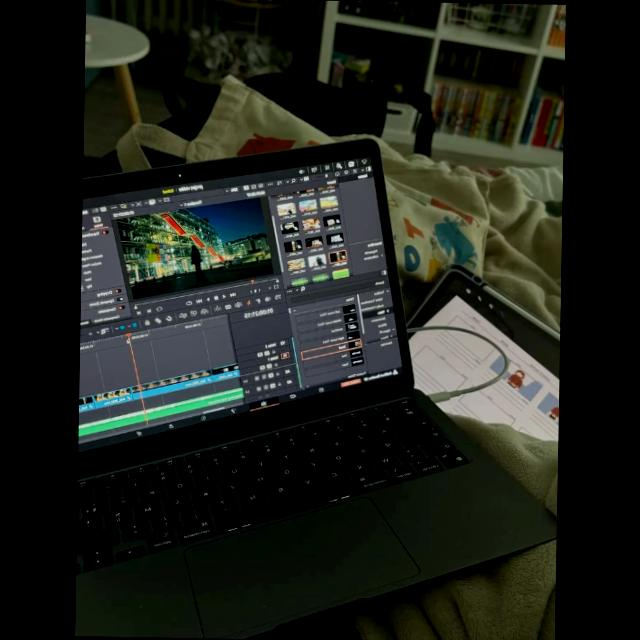laptop: (74, 120, 480, 640)
